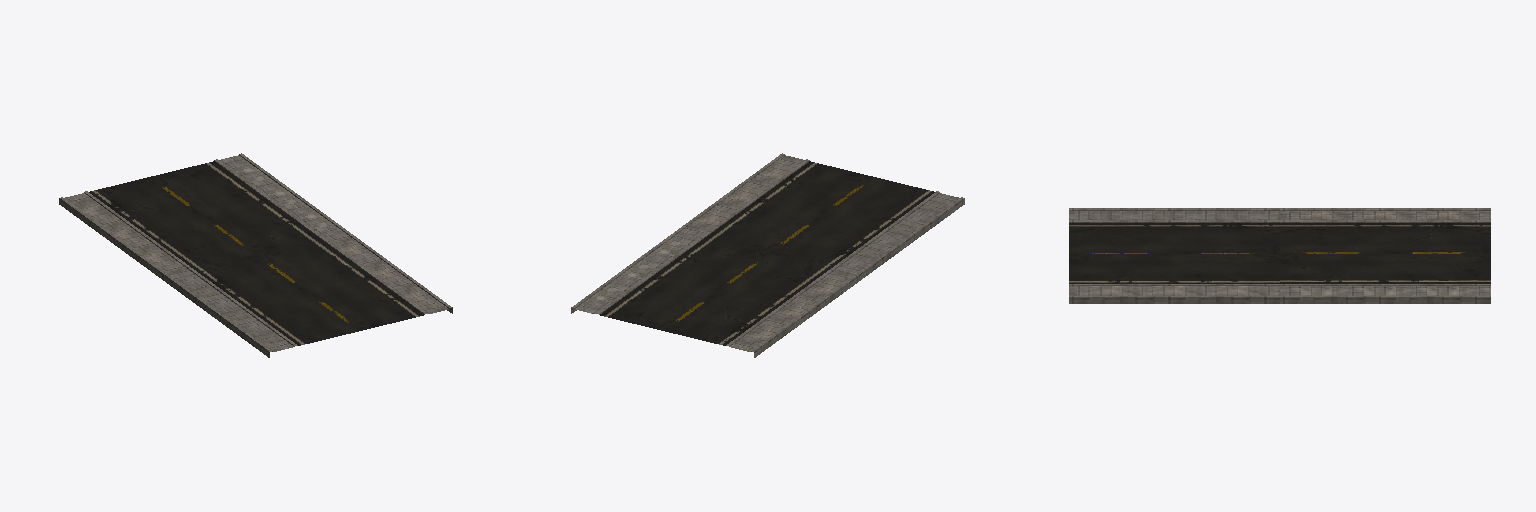
The picture shows the model from 3 angles: view 1: azimuth 30°, elevation 25°; view 2: azimuth 150°, elevation 25°; view 3: azimuth 270°, elevation 25°; orthographic projection.
Visible parts, largest first — view 1: 7_Road-Streight; view 2: 7_Road-Streight; view 3: 7_Road-Streight.
Boxes of the visible parts, <box> form: 7_Road-Streight: <box>59,153,452,357</box>; 7_Road-Streight: <box>571,153,964,357</box>; 7_Road-Streight: <box>1069,208,1490,303</box>.
Bounding box in the file's own units: 0.6196 × 0.0219 × 1.24.
Materials: 1 (1 with a texture image).